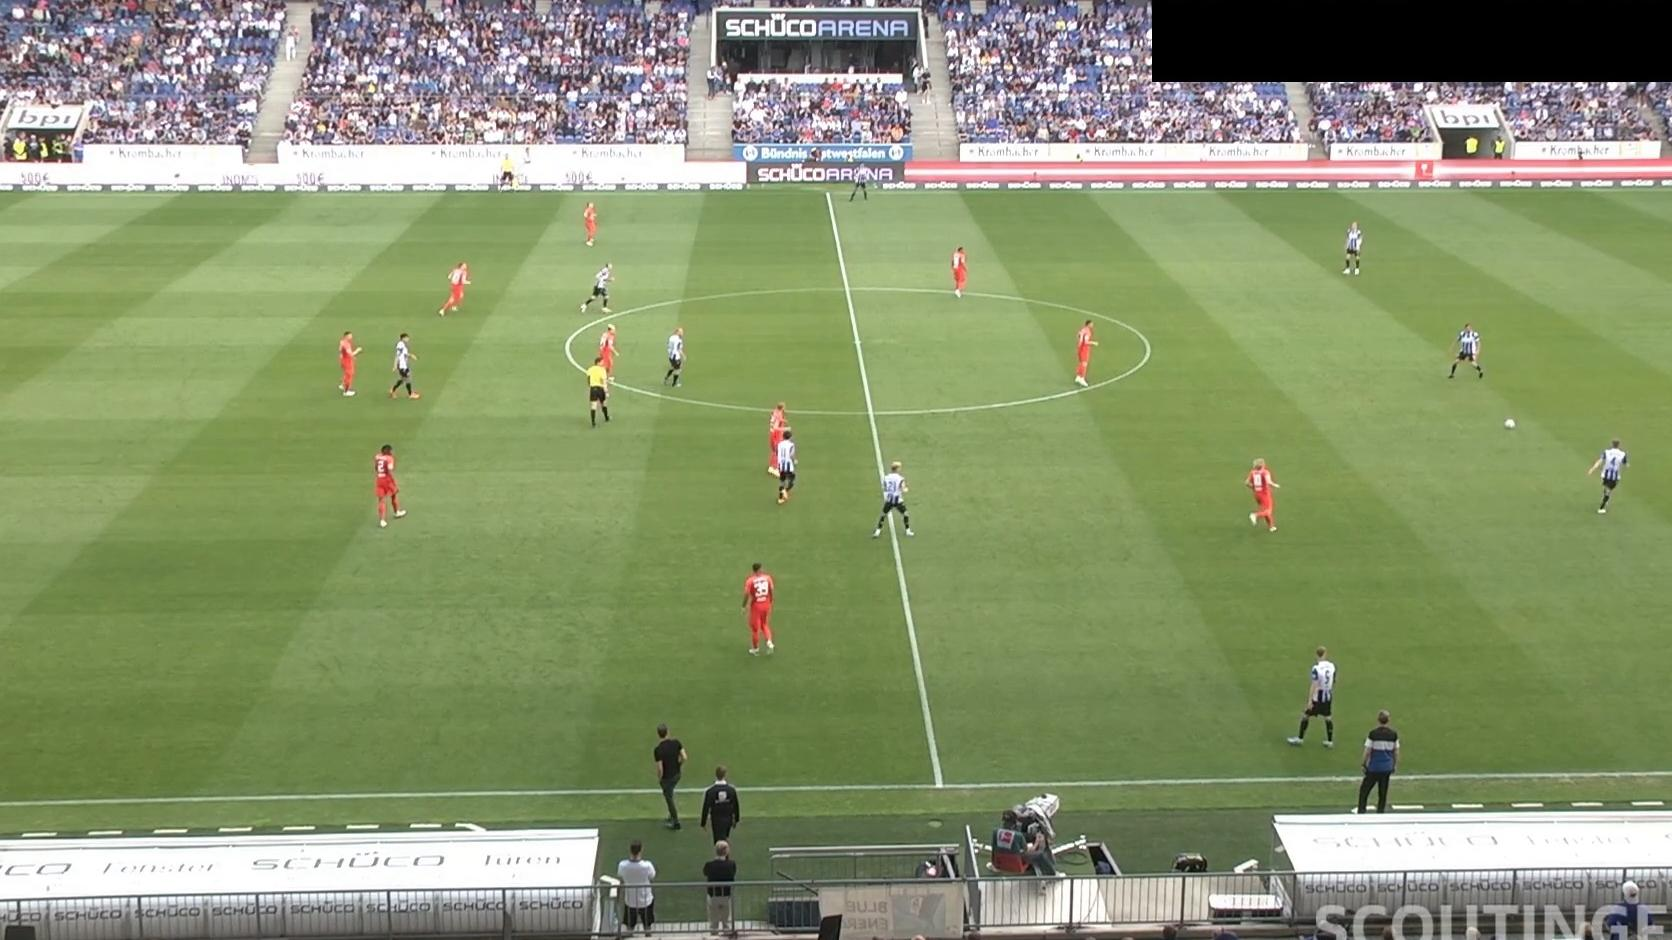ball: (1504, 418, 1516, 430)
